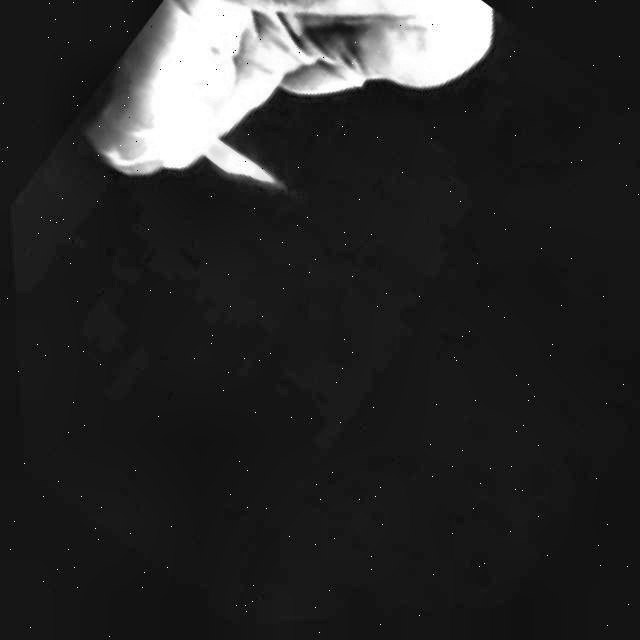Fire: (153, 88, 297, 223)
